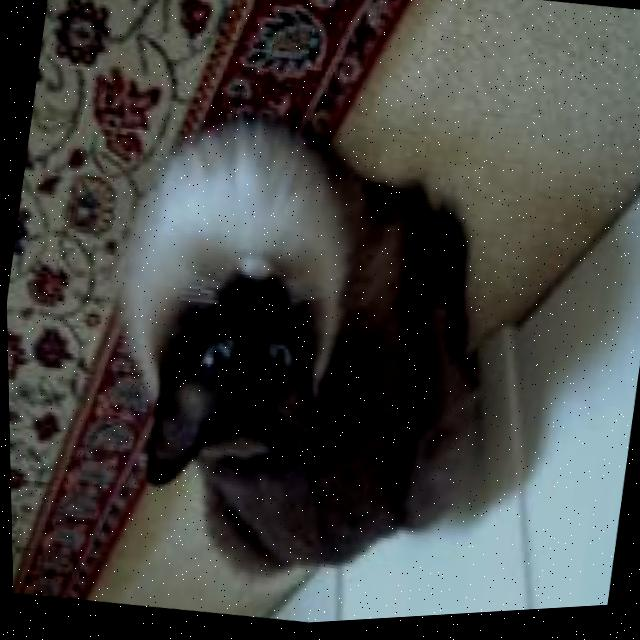Ragdoll: (62, 81, 532, 630)
